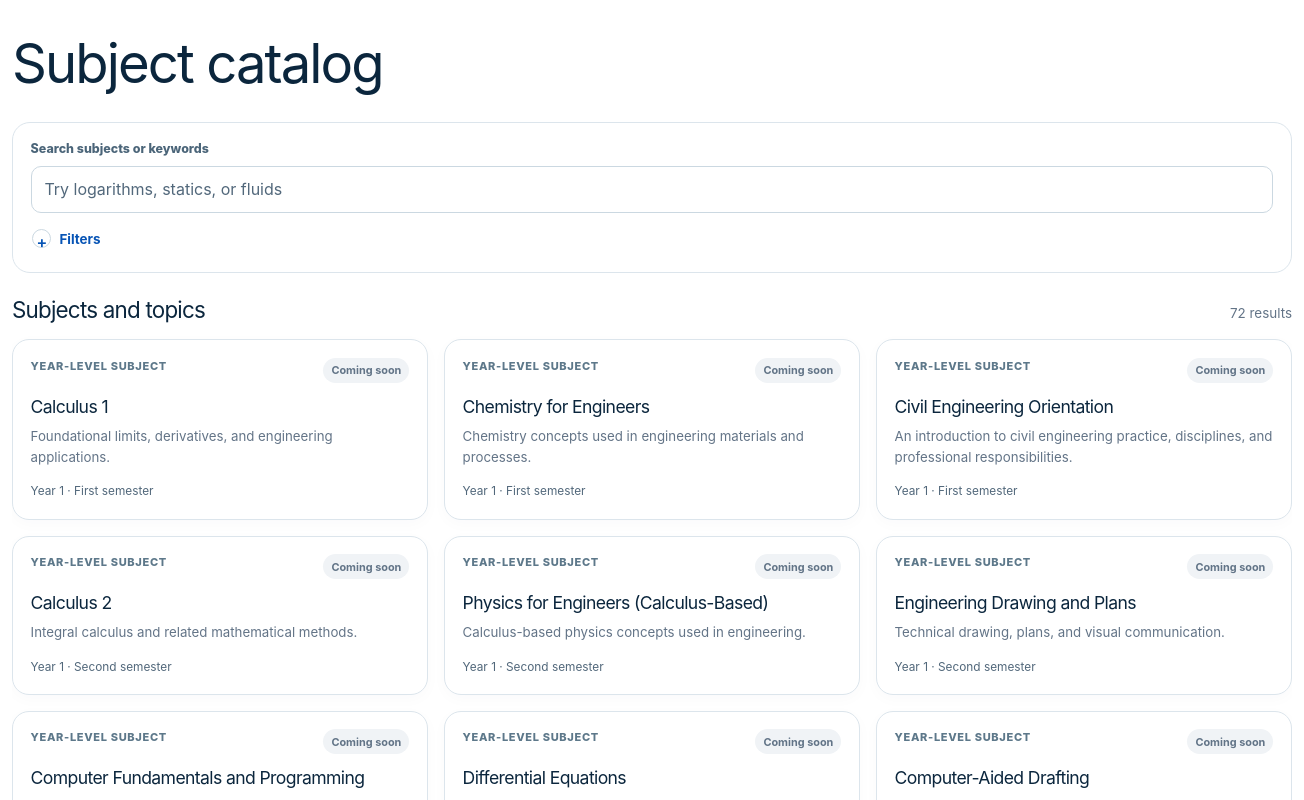
catalog pages › keeps advanced filters collapsed until requested
This screenshot has width=1304, height=800.
What coordinates should you click on to do the following:
click the heading "Filters"
I would click on:
 (66, 239)
Its box is [31,223,102,254].
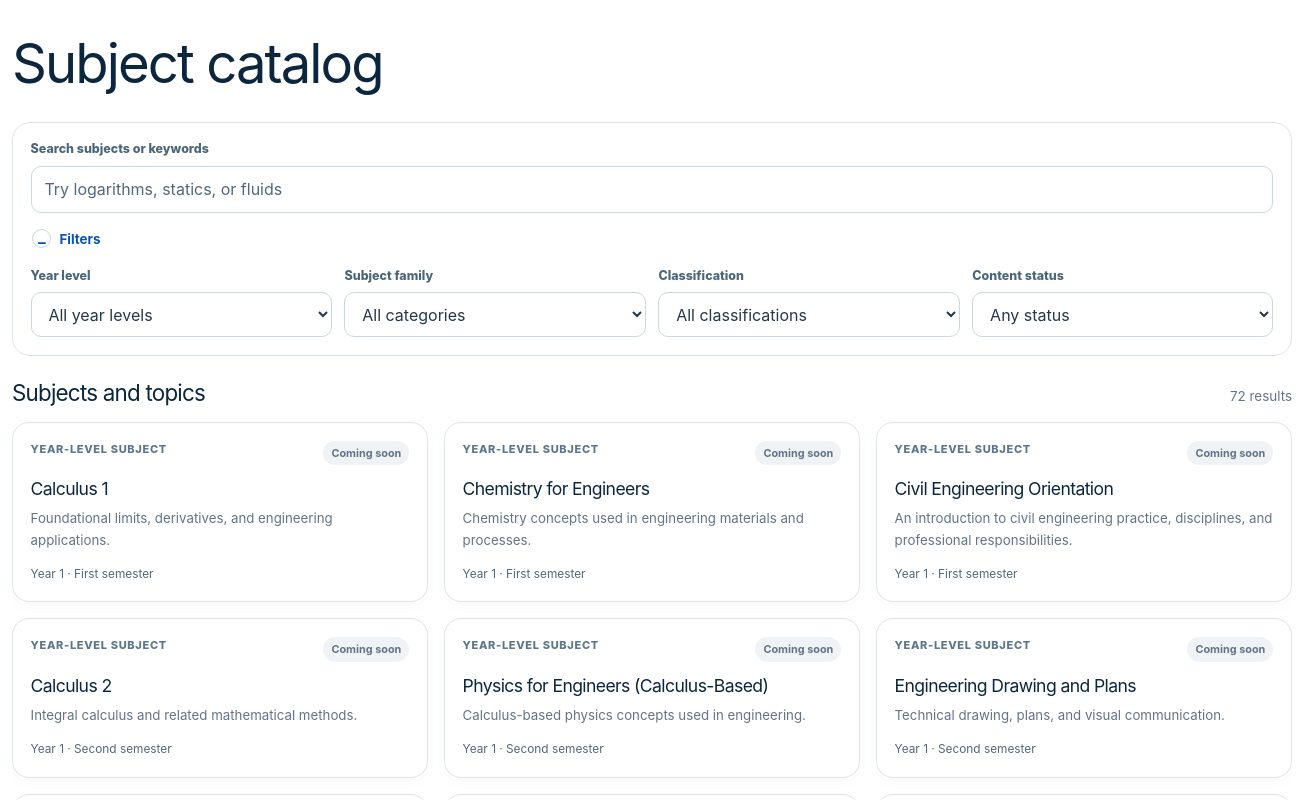
Expected: the dropdown labelled "Year level" is shown, [31,292,332,337]
Expected: the dropdown labelled "Subject family" is shown, [344,292,646,337]
